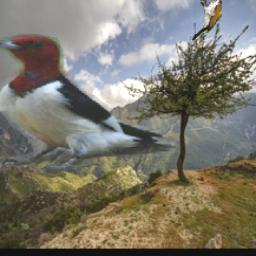Woodpecker: (0, 34, 176, 169), (191, 0, 223, 41)
